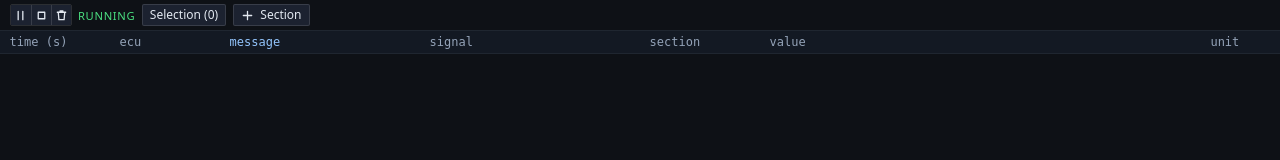
Scenario: SignalsPanel toolbar › opens and closes the selection editor from its own chip, leaving no section behind
This screenshot has width=1280, height=160.
What coordinates should you click on to do the following:
click the button "Selection (0)"
I would click on:
 (184, 15)
Its box is [142,4,226,26].
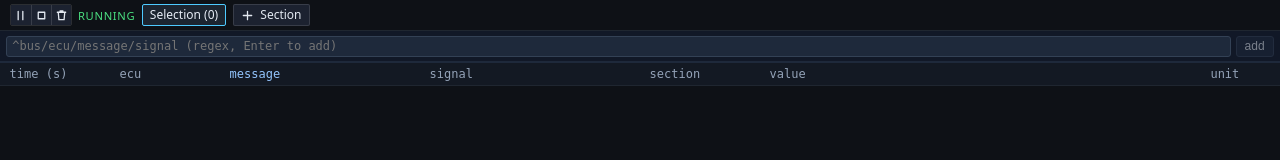
Result: the element with class "signals-selection-editor" is shown at [0,31,1279,63]
What coordinates should you click on to do the following:
click the button "Selection (0)"
I would click on:
 (184, 15)
Its box is [142,4,226,26].
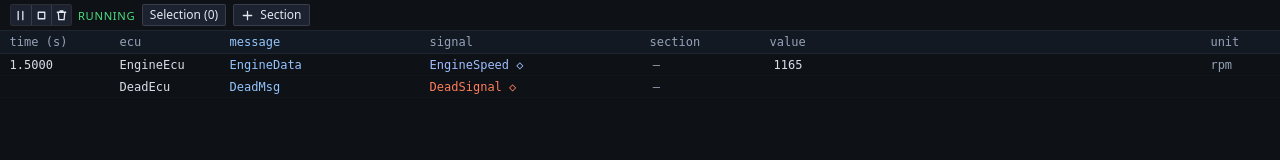
Result: the element with class "signals-selection-editor" is gone
